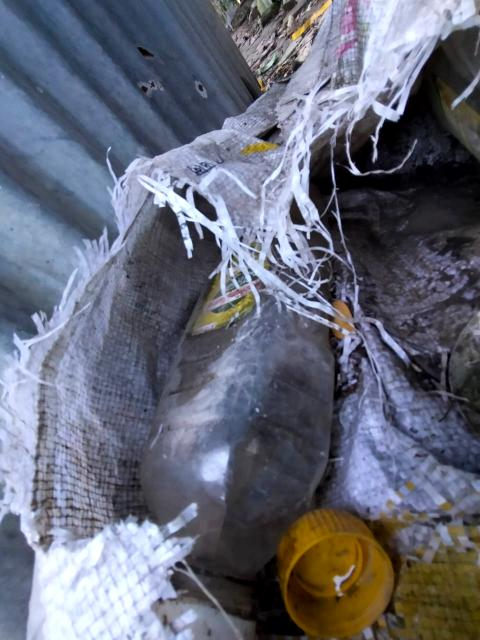bottle: (151, 239, 333, 582)
